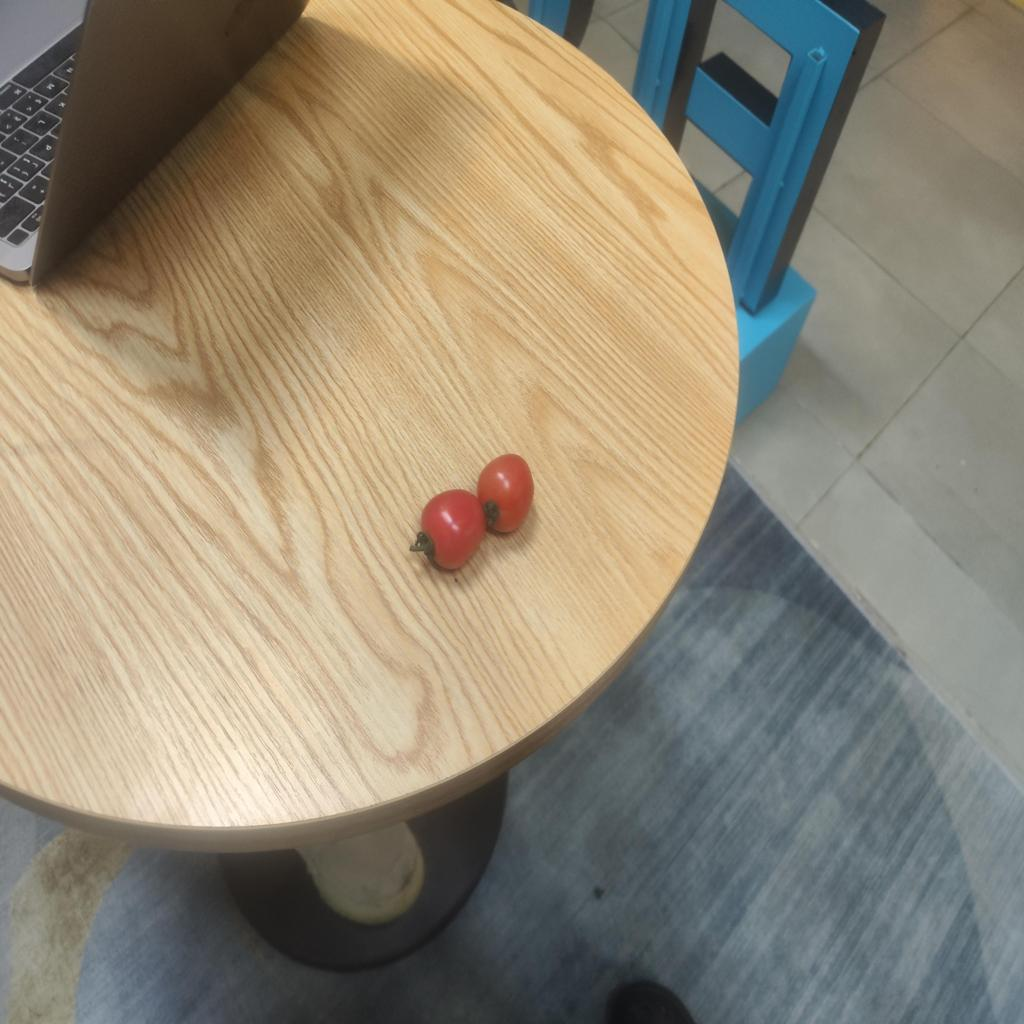tomato: (417, 490, 489, 570), (474, 454, 539, 536)
